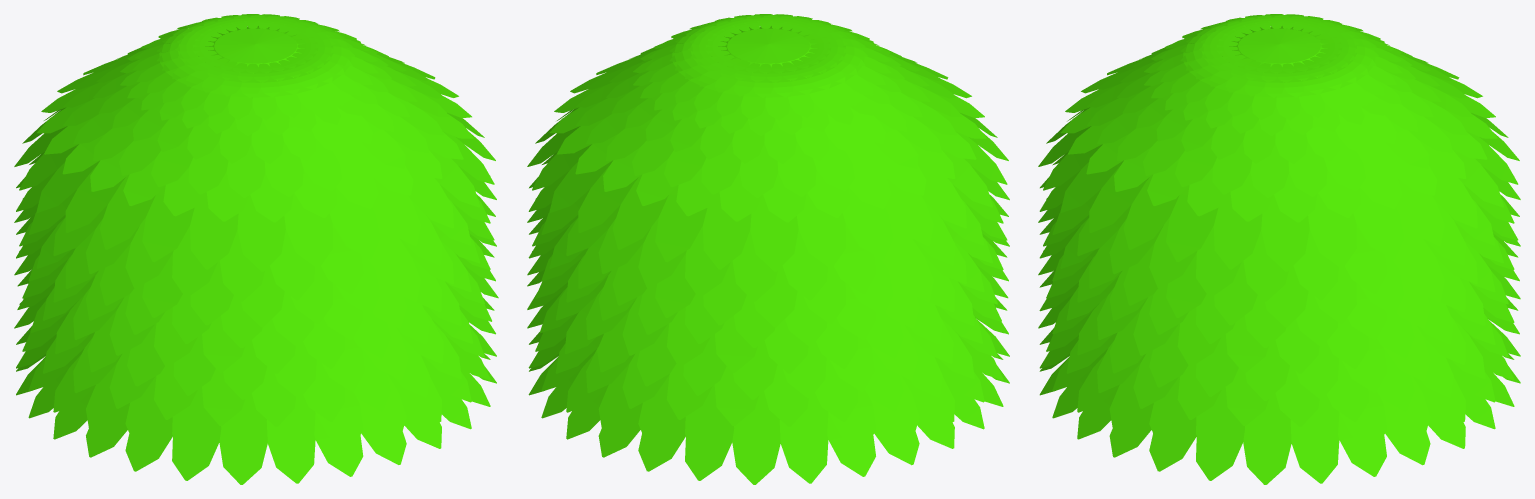
Rendered from Bush.fbx.
3 renders of one model, left to right at view 1: azimuth 30°, elevation 25°; view 2: azimuth 150°, elevation 25°; view 3: azimuth 270°, elevation 25°, orthographic.
Visible parts, largest first — view 1: Bush; view 2: Bush; view 3: Bush.
Part boxes in pixels (left/top/right/bottom): Bush: left=14, top=14, right=498, bottom=484; Bush: left=527, top=14, right=1009, bottom=484; Bush: left=1038, top=14, right=1520, bottom=484.
Size of the model in its own units: 254 by 196 by 253.
